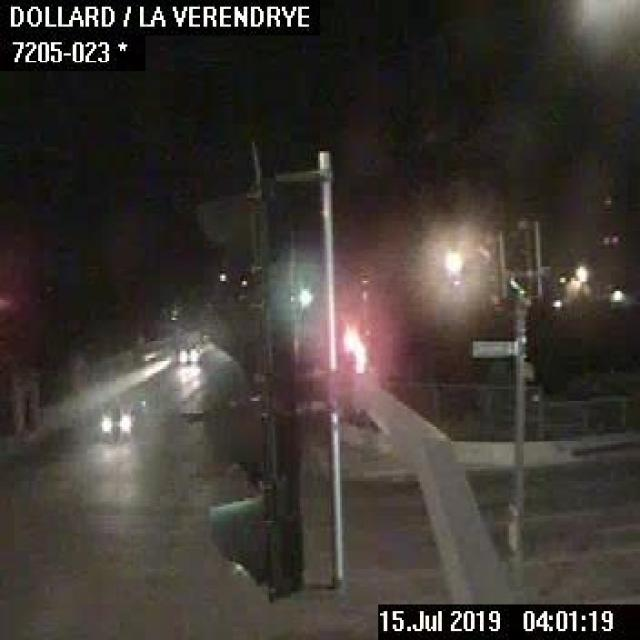vehicle: (96, 400, 138, 436), (174, 338, 202, 362)
